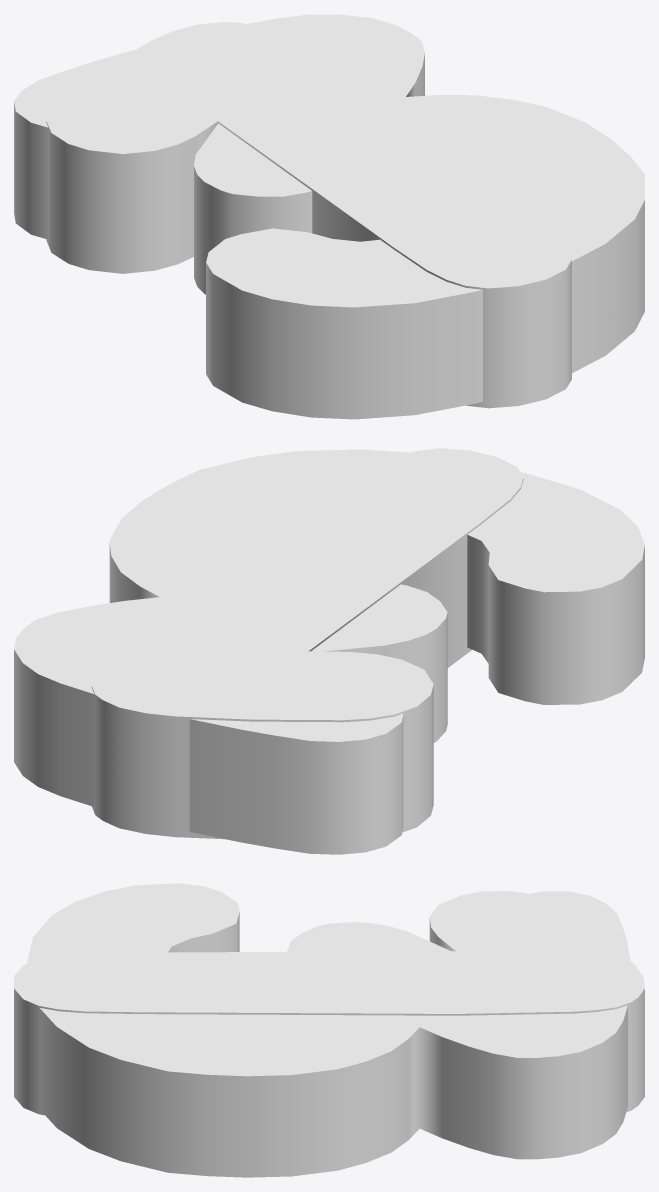
The model's file is num.fbx.
3 views of the same model, one above another, from view 1: azimuth 30°, elevation 25°; view 2: azimuth 150°, elevation 25°; view 3: azimuth 270°, elevation 25° (orthographic). The views are drawn at different scales.
Visible parts, largest first — view 1: num3, num1; view 2: num3, num1; view 3: num3, num1.
Part boxes in pixels (x1,y1,x2,y2): num3: (14, 14, 644, 419); num1: (46, 22, 571, 408); num3: (14, 449, 644, 854); num1: (91, 448, 523, 839); num3: (27, 883, 630, 1177); num1: (14, 891, 644, 1115).
Bounding box in the file's own units: 1.48 × 0.3889 × 2.05.
